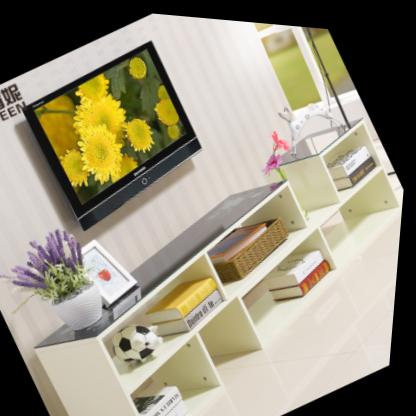TV stand: (41, 112, 403, 416)
